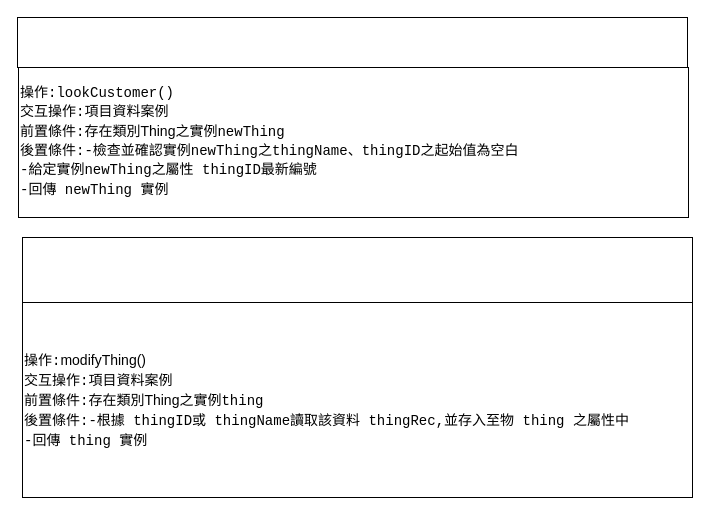
The diagram is 710 pixels wide and 515 high, and some of its shapes have lost their labels. The centre of each missing label's shape, as x and y in pixels:
合約6： i nputThing(): the point at 352,42
合約7: modifyThing( ): the point at 357,269
